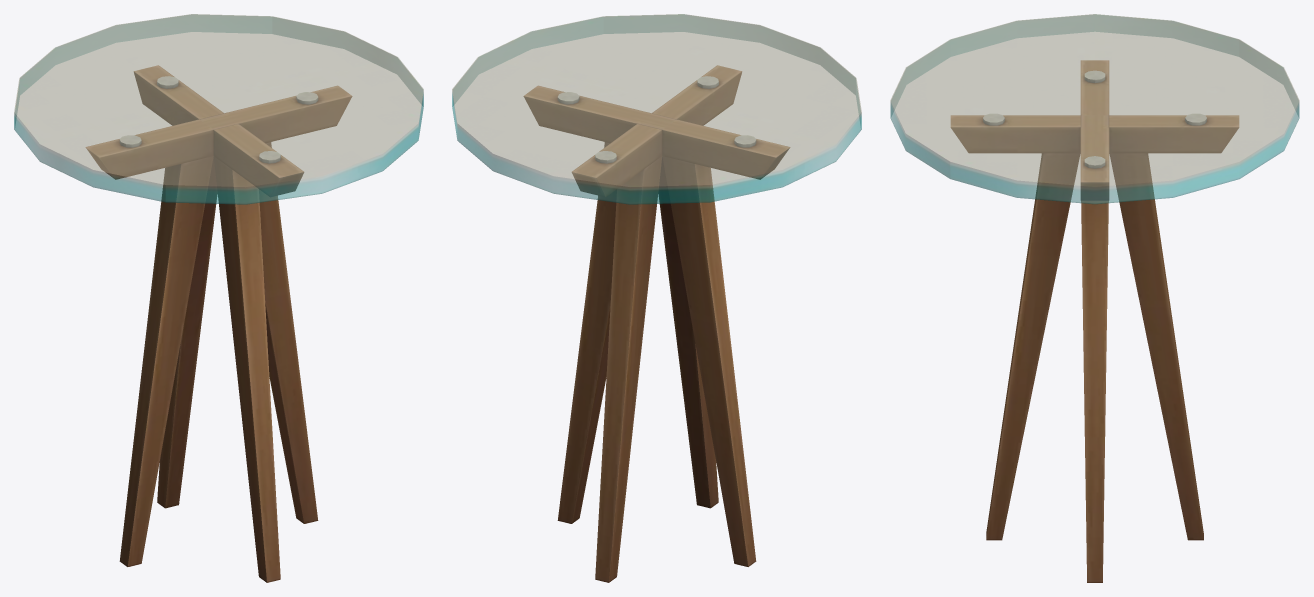
The model's file is tiny_orbital_high_dining.glb.
3 renders of one model, left to right at view 1: azimuth 30°, elevation 25°; view 2: azimuth 150°, elevation 25°; view 3: azimuth 270°, elevation 25°, orthographic.
Parts seen in each view (by area): view 1: Object_72, Object_70; view 2: Object_72, Object_70; view 3: Object_72, Object_70.
Part boxes in pixels (<box>): Object_72: <box>14,14,423,204</box>; Object_70: <box>85,65,352,582</box>; Object_72: <box>452,14,861,204</box>; Object_70: <box>523,65,790,582</box>; Object_72: <box>890,14,1299,204</box>; Object_70: <box>950,60,1239,582</box>.
Size of the model in its own units: 1.24 by 1.46 by 1.24.
2 materials, 2 textured.
